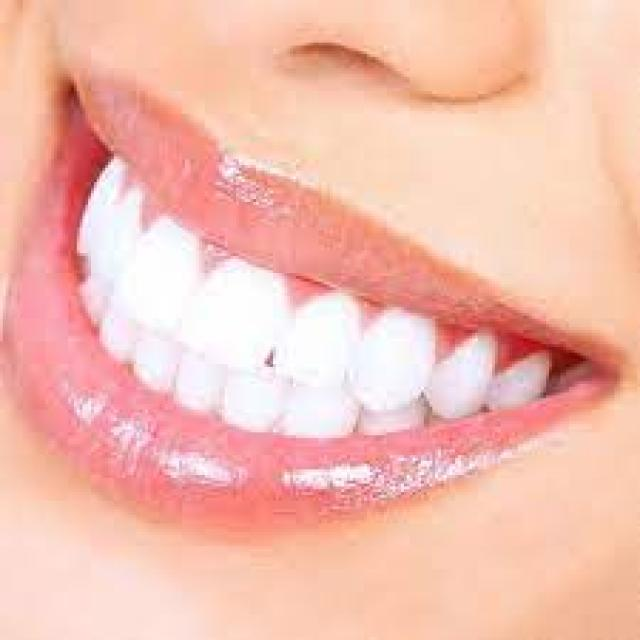tooth: (364, 313, 418, 401), (142, 222, 191, 318), (290, 302, 344, 376), (213, 267, 262, 347), (290, 381, 356, 435), (74, 168, 111, 245), (492, 361, 552, 404), (449, 333, 481, 412), (108, 188, 139, 267), (174, 362, 216, 416), (230, 378, 276, 427), (140, 336, 180, 384), (108, 287, 134, 356), (367, 404, 429, 427), (85, 273, 111, 319)
